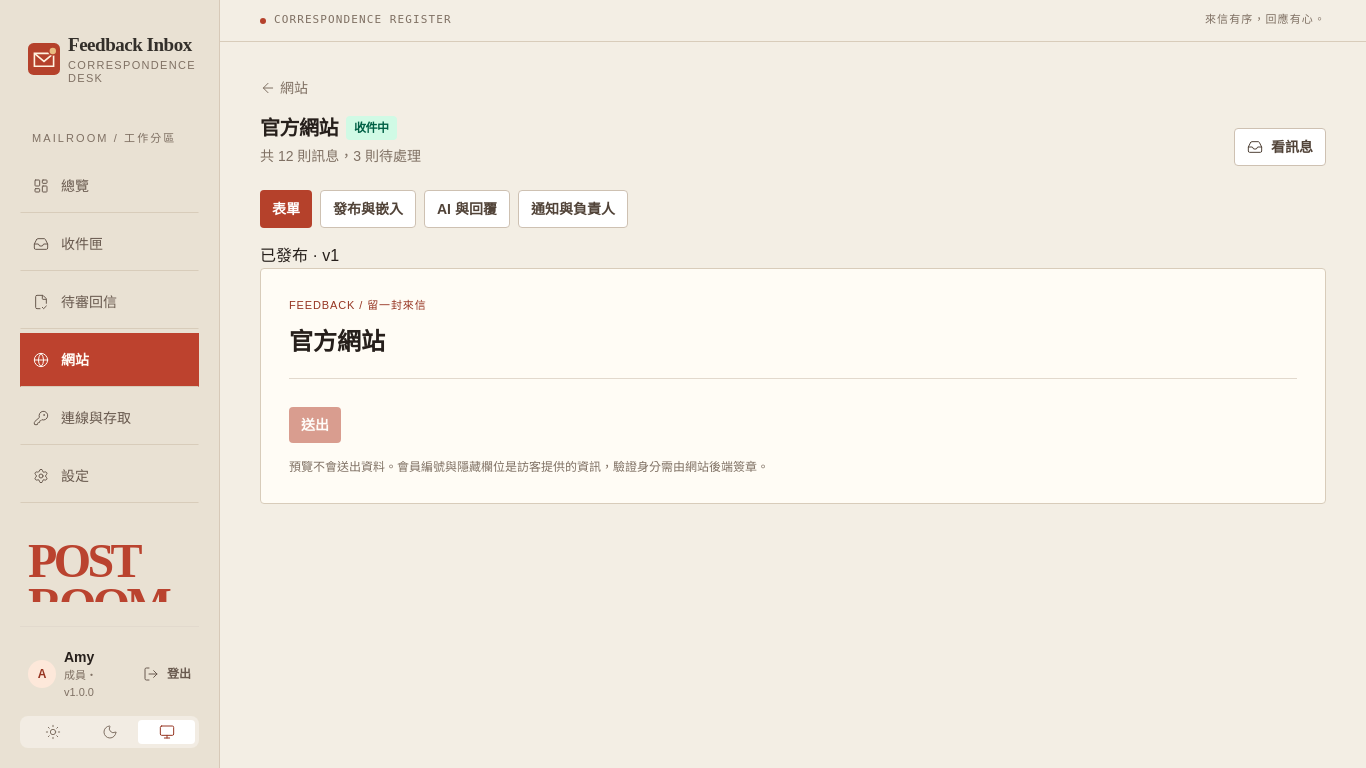
Test: 成員只能看設定，不能改
This screenshot has width=1366, height=768.
Click the button "通知與負責人": click(573, 209) [518, 190, 628, 228]
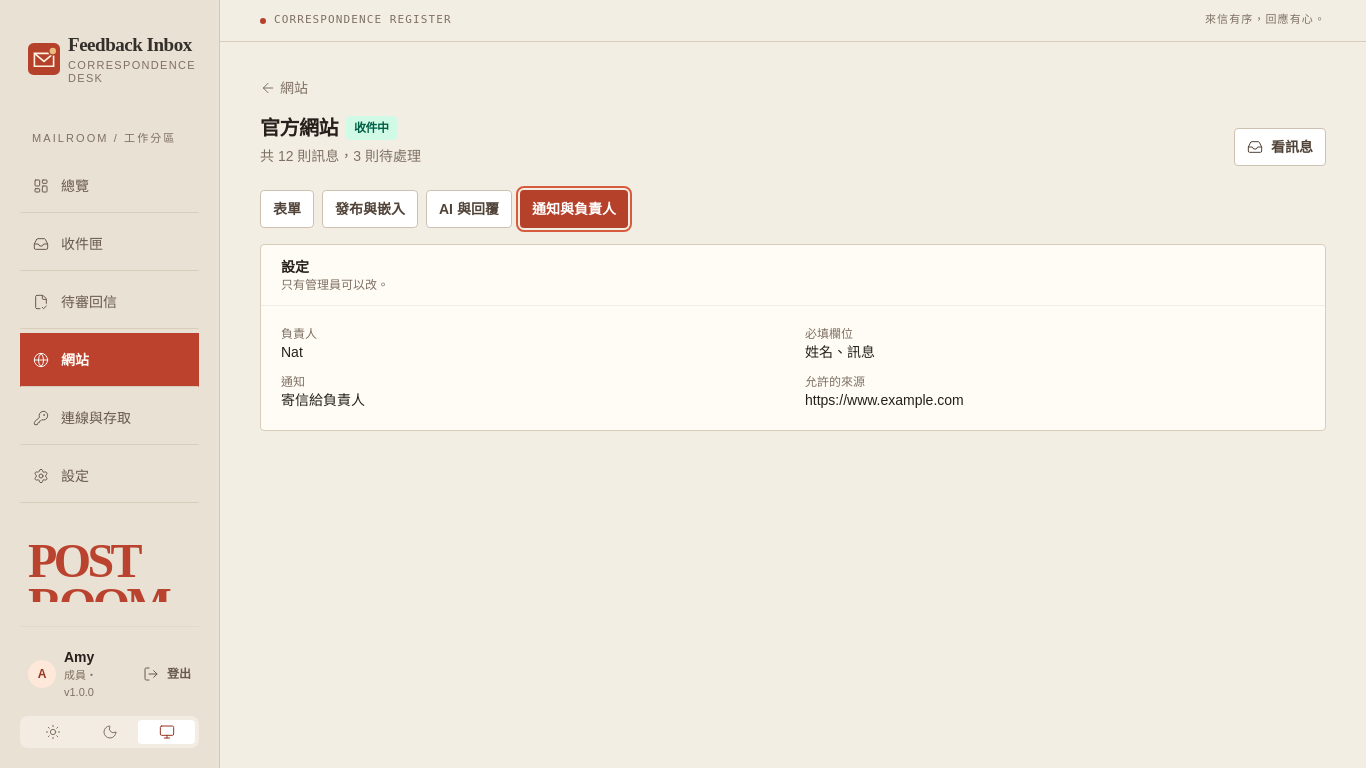
Expected: the text "只有管理員可以改。" is shown, [281, 277, 389, 293]
